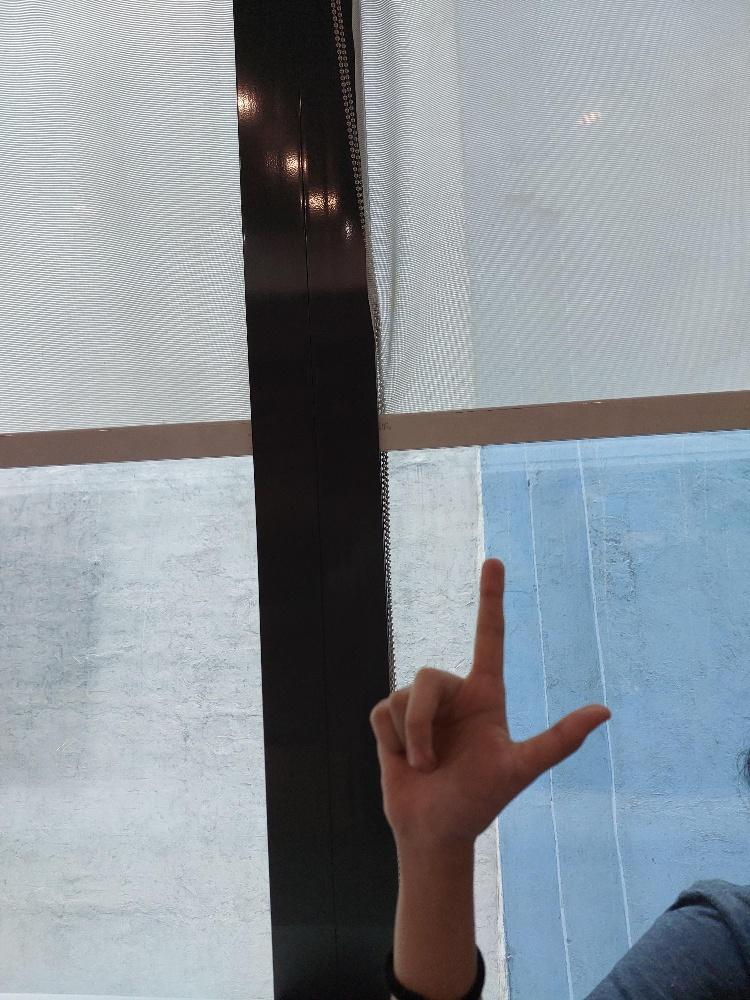l: (369, 554, 609, 835)
